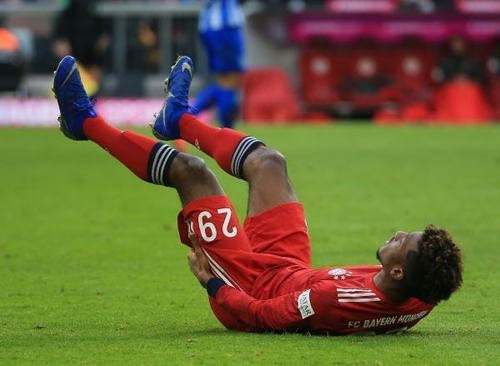falling: (36, 42, 469, 330)
